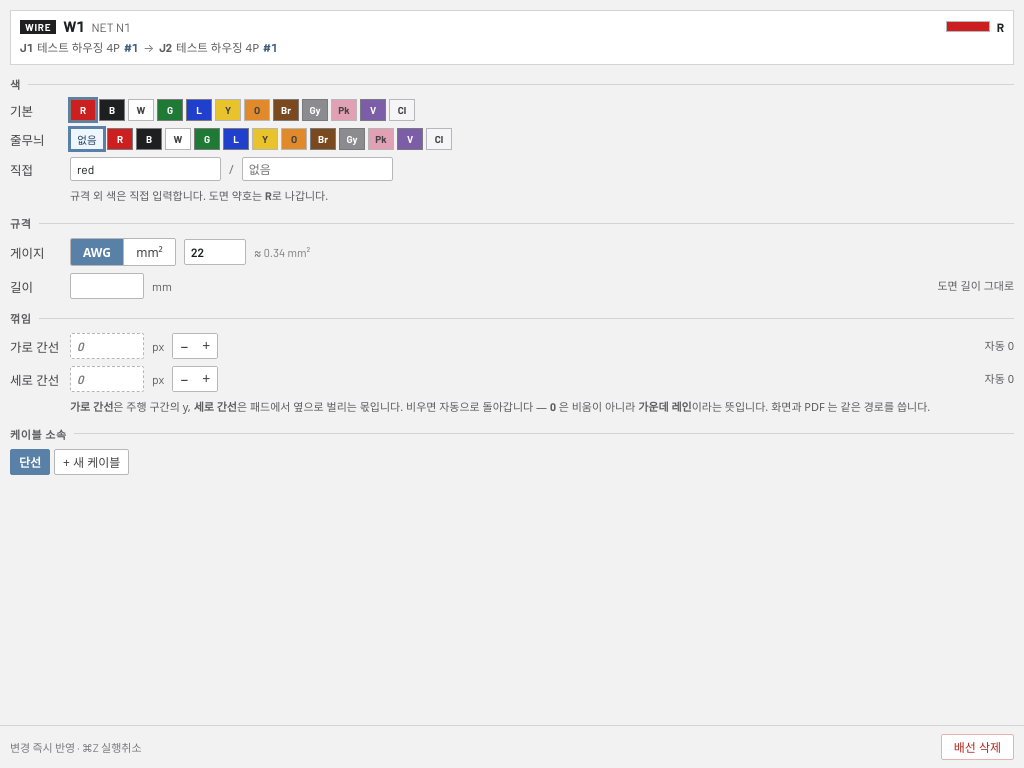
Test case: 속성 패널 — 꺾임 조정 › + 를 누르면 레인 한 칸만큼 내려가고 **도면이 실제로 바뀐다**
What coordinates should you click on to do the following:
click the button named "가로 간선 한 칸 더하기"
I would click on:
 (206, 346)
Its box is [195, 334, 217, 358].
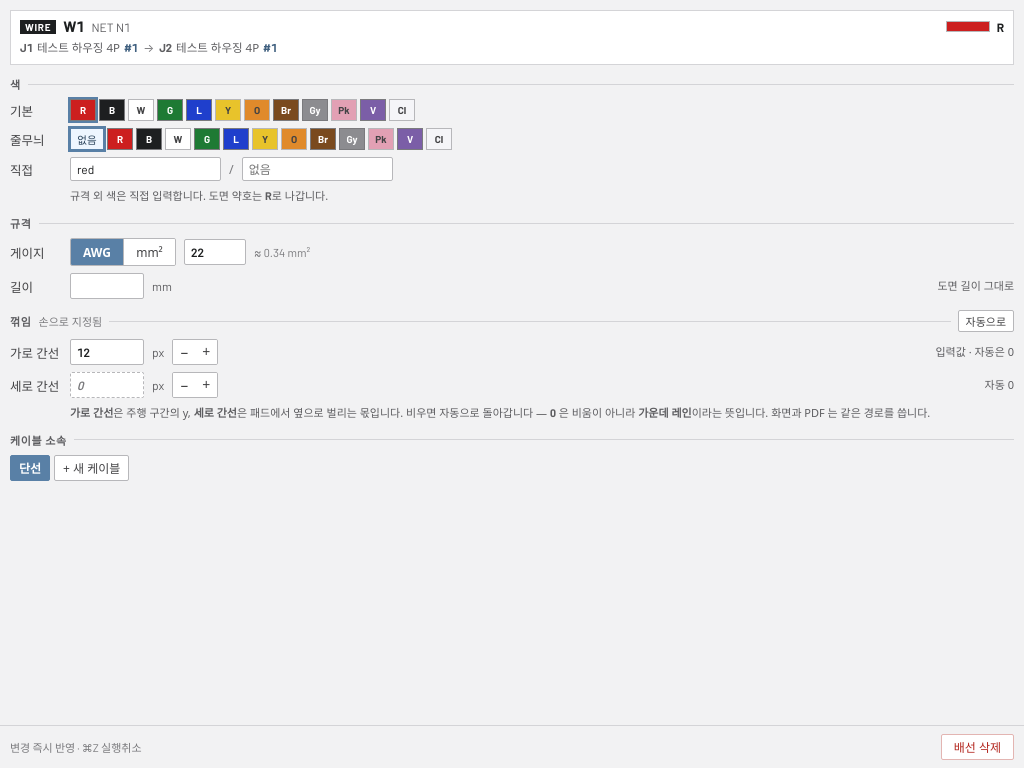
Expected: the text "손으로 지정됨" is shown, [39, 313, 102, 329]
